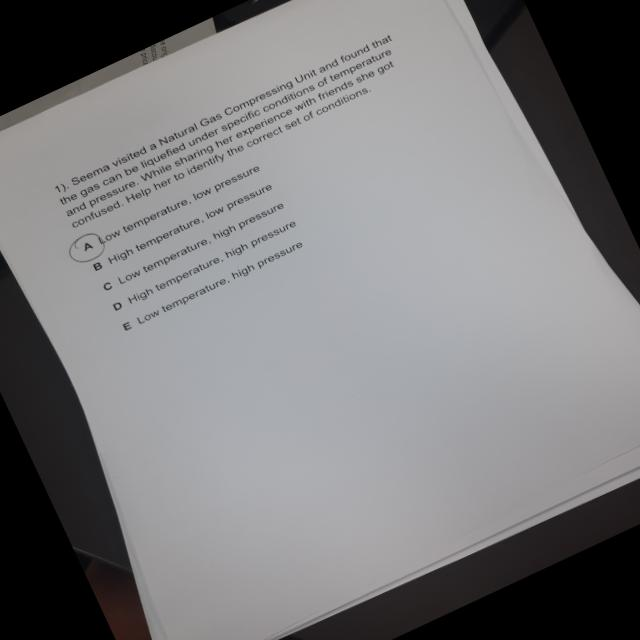A: (61, 226, 114, 272)
